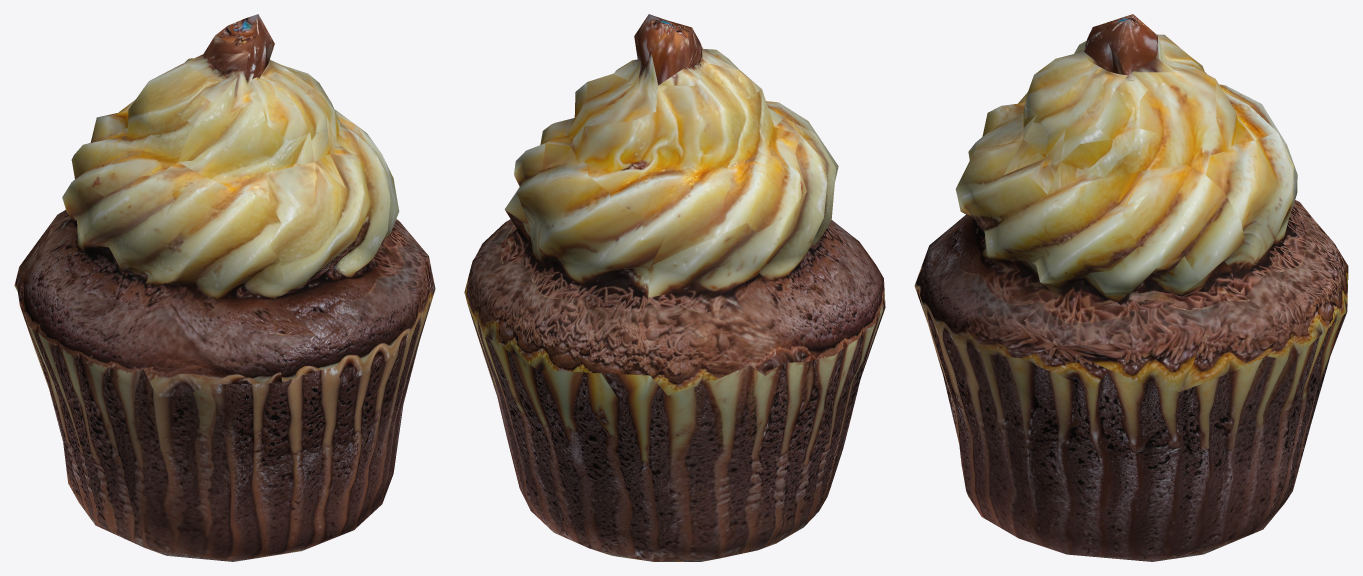
Rendered from head.glb.
3 views of the same model, side by side, from view 1: azimuth 30°, elevation 25°; view 2: azimuth 150°, elevation 25°; view 3: azimuth 270°, elevation 25° (orthographic). The views are drawn at different scales.
Parts seen in each view (by area): view 1: Cupcake; view 2: Cupcake; view 3: Cupcake.
Boxes of the visible parts, left/top/right/bottom form: Cupcake: left=14, top=14, right=435, bottom=561; Cupcake: left=464, top=14, right=885, bottom=561; Cupcake: left=914, top=14, right=1348, bottom=561.
Size of the model in its own units: 0.2993 by 0.391 by 0.2995.
1 material, 1 textured.
